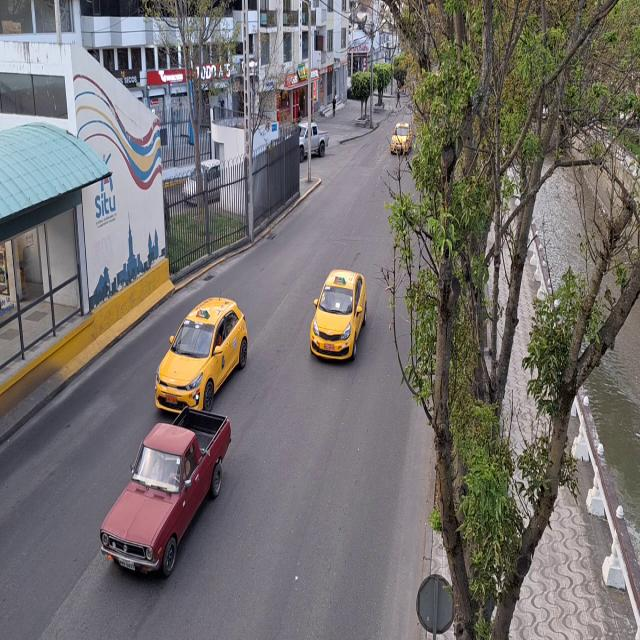CMT: (101, 408, 229, 574), (298, 123, 330, 156)
SED: (150, 295, 250, 412), (312, 264, 364, 360), (389, 121, 413, 155)
